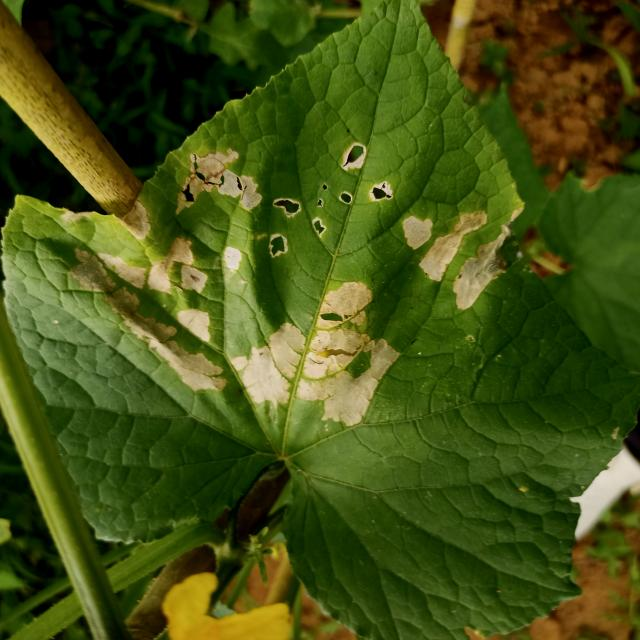disease_cucumber: (73, 142, 526, 426)
